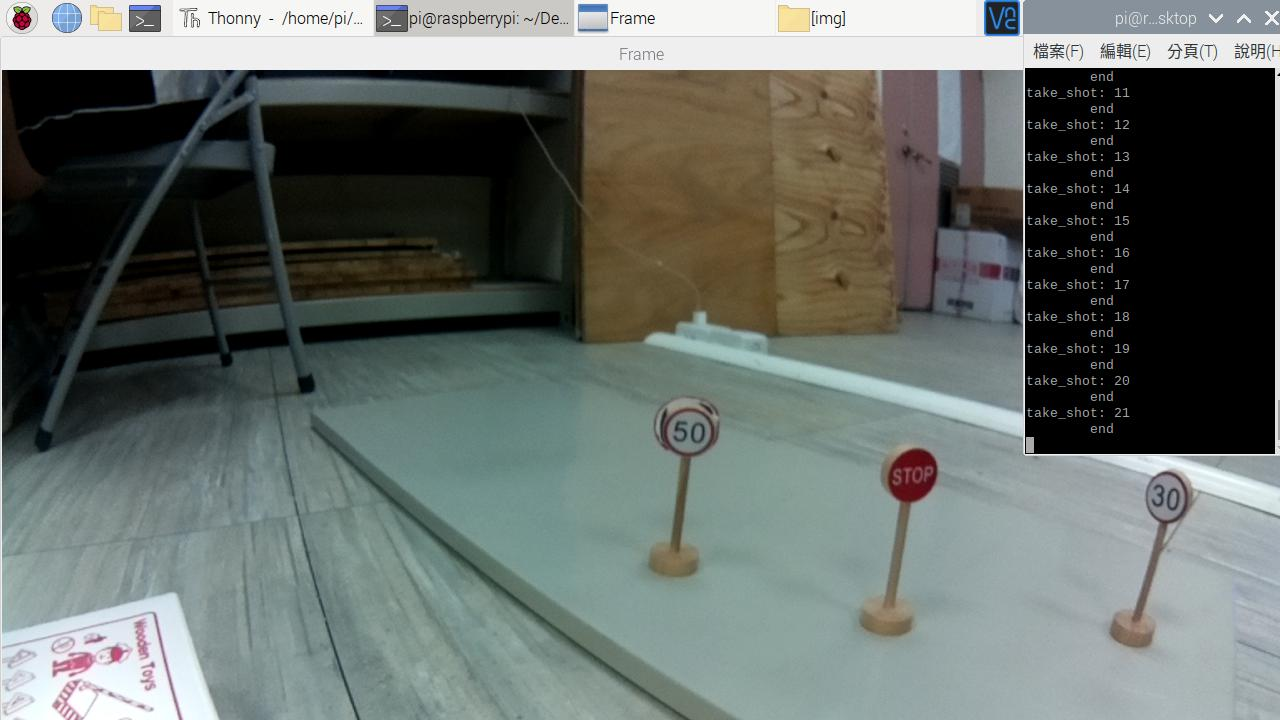Speed30: (1150, 470, 1189, 518)
Speed50: (662, 401, 716, 452)
Stop: (887, 451, 936, 504)
